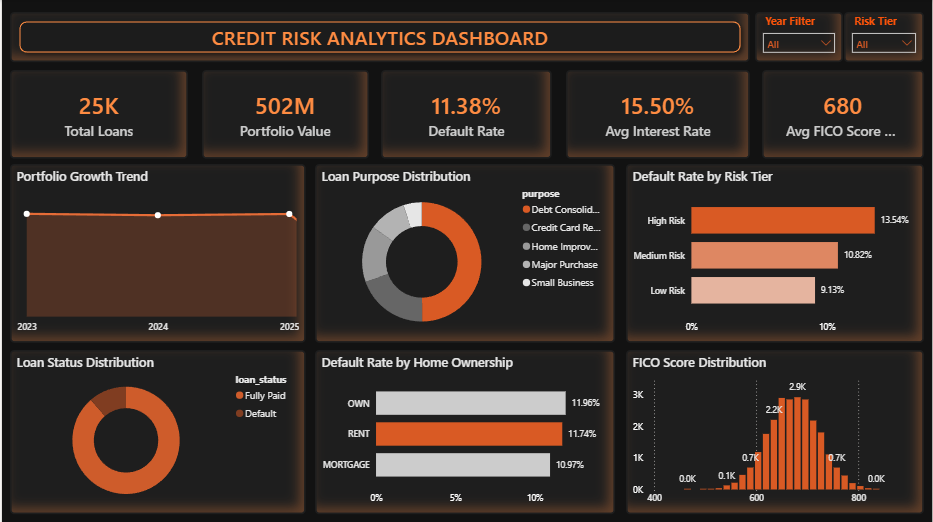

The page's visual inventory and layout, read from the dashboard file:
{"tool":"powerbi","page":{"name":"Executive Overview","canvas":[1280,720],"ordinal":0},"visuals":[{"type":"shape","box":[11,17.9,1018.5,68.8],"z":0},{"type":"cardVisual","fields":{"Data":["Measure.Total Loans"]},"box":[11,97.7,245,122.5],"z":1},{"type":"cardVisual","fields":{"Data":["Measure.Portfolio Value"]},"box":[275.3,97.7,229.8,122.5],"z":2},{"type":"cardVisual","fields":{"Data":["Measure.Default Rate"]},"box":[521.6,97.7,235.4,122.5],"z":3},{"type":"cardVisual","fields":{"Data":["Measure.Avg Interest Rate"]},"box":[776.3,97.7,253.2,122.5],"z":4},{"type":"cardVisual","fields":{"Data":["Measure.Avg FICO Score"]},"box":[1046,97.7,223,122.5],"z":5},{"type":"lineChart","title":"Portfolio Growth Trend","fields":{"Category":["credit_risk_loans.issue_date.Variation.Date Hierarchy.Year"],"Y":["Sum(credit_risk_loans.funded_amount)"]},"box":[11,227.1,407.4,246.4],"z":6},{"type":"donutChart","title":"Loan Purpose Distribution","fields":{"Category":["credit_risk_loans.purpose"],"Y":["CountNonNull(credit_risk_loans.loan_id)"]},"box":[430.8,227.1,412.9,246.4],"z":7},{"type":"clusteredBarChart","title":"Default Rate by Risk Tier","fields":{"Category":["credit_risk_loans.risk_tier"],"Y":["Measure.Default Rate"]},"box":[858.8,227.1,410.2,246.4],"z":8},{"type":"donutChart","title":"Loan Status Distribution","fields":{"Category":["credit_risk_loans.loan_status"],"Y":["CountNonNull(credit_risk_loans.loan_id)"]},"box":[11,483.1,407.4,225.7],"z":9},{"type":"clusteredBarChart","title":"Default Rate by Home Ownership","fields":{"Category":["credit_risk_loans.home_ownership"],"Y":["Measure.Default Rate"]},"box":[431,483,413,226],"z":10},{"type":"columnChart","title":"FICO Score Distribution","fields":{"Category":["credit_risk_loans.fico_score (bins)"],"Y":["CountNonNull(credit_risk_loans.loan_id)"]},"box":[859,483,410,226],"z":11},{"type":"slicer","fields":{"Values":["credit_risk_loans.issue_date.Variation.Date Hierarchy.Year"]},"box":[1036.4,17.9,121.1,68.8],"z":12},{"type":"slicer","fields":{"Values":["credit_risk_loans.risk_tier"]},"box":[1158.9,17.9,110.1,68.8],"z":13}]}

Visuals, with their boxes in screenshot pixels (x1, y1, x2, y2), scaled from the page's 1280x720 canvas onto the 933x522 screenshot:
shape: l=8, t=13, r=750, b=63
cardVisual - Measure.Total Loans: l=8, t=71, r=187, b=160
cardVisual - Measure.Portfolio Value: l=201, t=71, r=368, b=160
cardVisual - Measure.Default Rate: l=380, t=71, r=552, b=160
cardVisual - Measure.Avg Interest Rate: l=566, t=71, r=750, b=160
cardVisual - Measure.Avg FICO Score: l=762, t=71, r=925, b=160
"Portfolio Growth Trend" lineChart: l=8, t=165, r=305, b=343
"Loan Purpose Distribution" donutChart: l=314, t=165, r=615, b=343
"Default Rate by Risk Tier" clusteredBarChart: l=626, t=165, r=925, b=343
"Loan Status Distribution" donutChart: l=8, t=350, r=305, b=514
"Default Rate by Home Ownership" clusteredBarChart: l=314, t=350, r=615, b=514
"FICO Score Distribution" columnChart: l=626, t=350, r=925, b=514
slicer - credit_risk_loans.issue_date.Variation.Date Hierarchy.Year: l=755, t=13, r=844, b=63
slicer - credit_risk_loans.risk_tier: l=845, t=13, r=925, b=63
